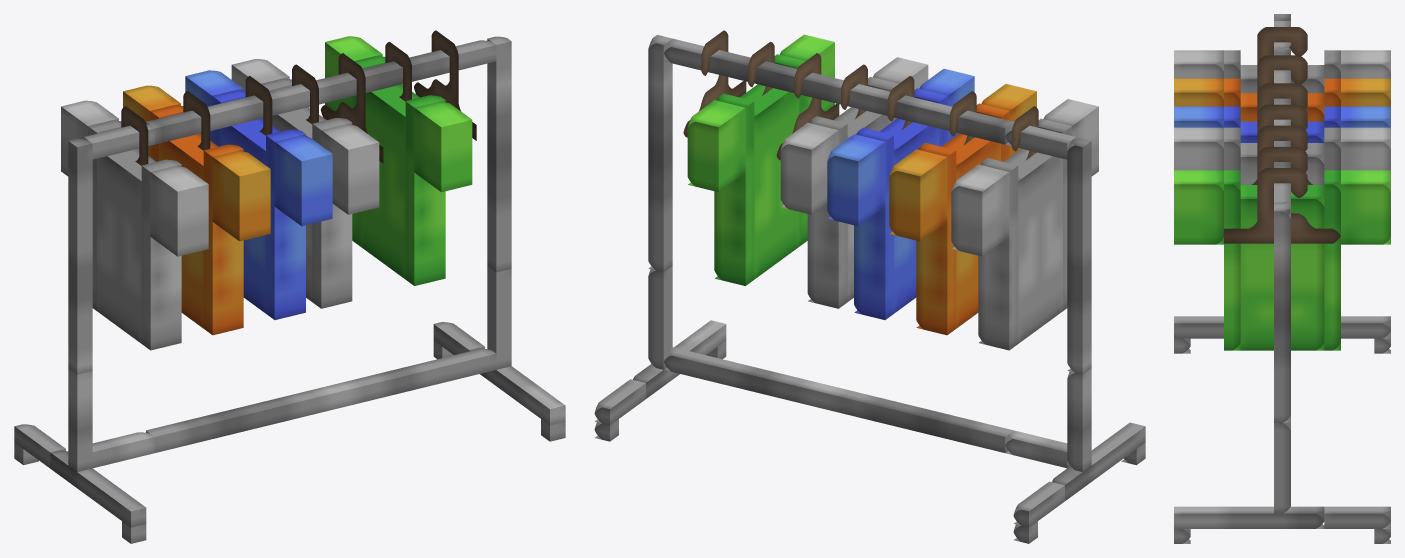
File: riail_155.obj
The picture shows the model from 3 angles, left to right: view 1: azimuth 30°, elevation 25°; view 2: azimuth 150°, elevation 25°; view 3: azimuth 270°, elevation 25°; orthographic projection. The views are drawn at different scales.
Bounding box in the file's own units: 1.75 × 1.44 × 0.8125.
Materials: 1 (1 with a texture image).
